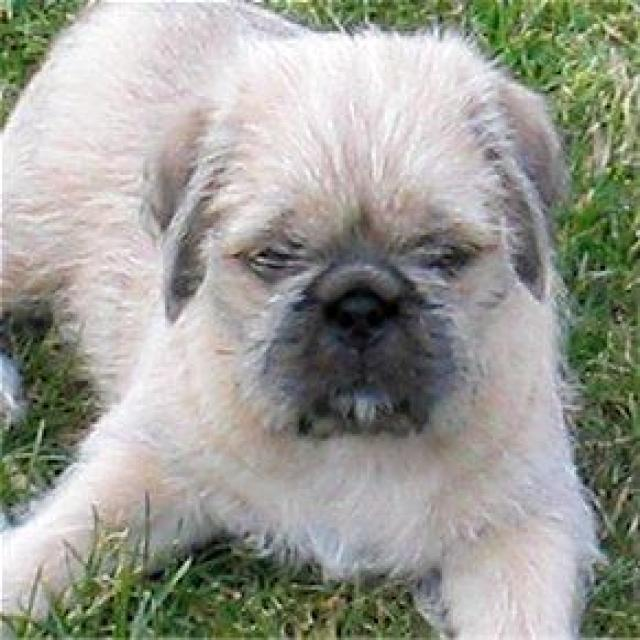relax: (158, 24, 576, 516)
